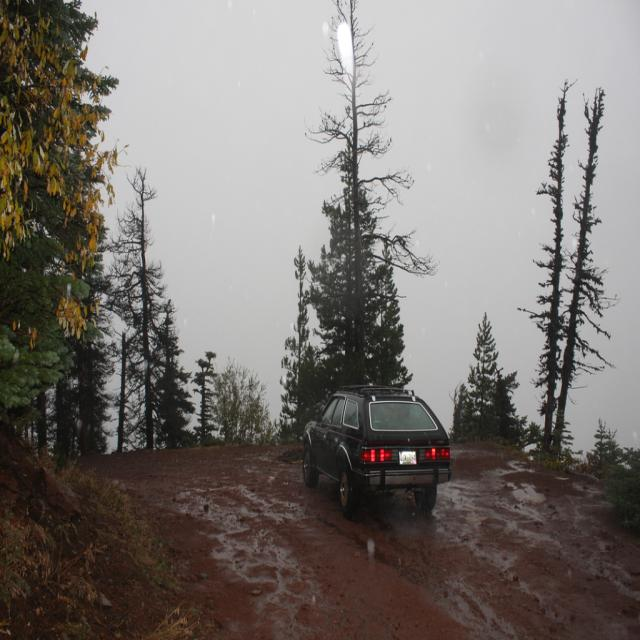car: (305, 379, 451, 522)
